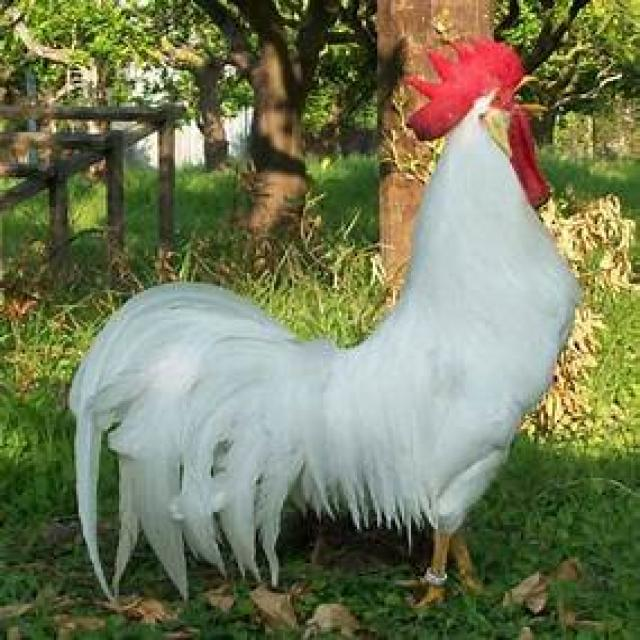hen: (67, 38, 582, 602)
